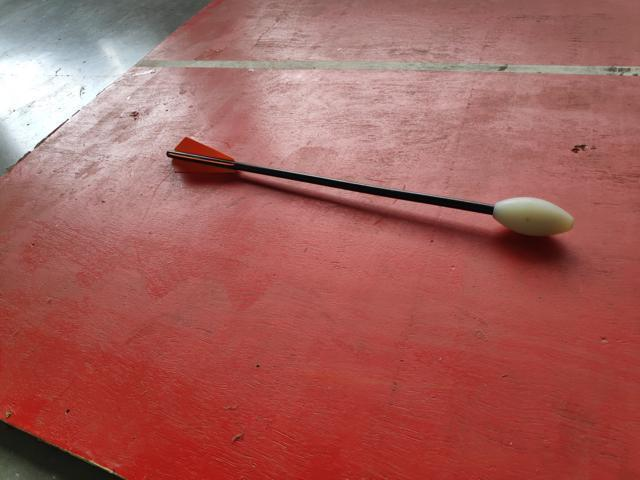Head: (487, 191, 576, 240)
Tail: (167, 133, 241, 175)
